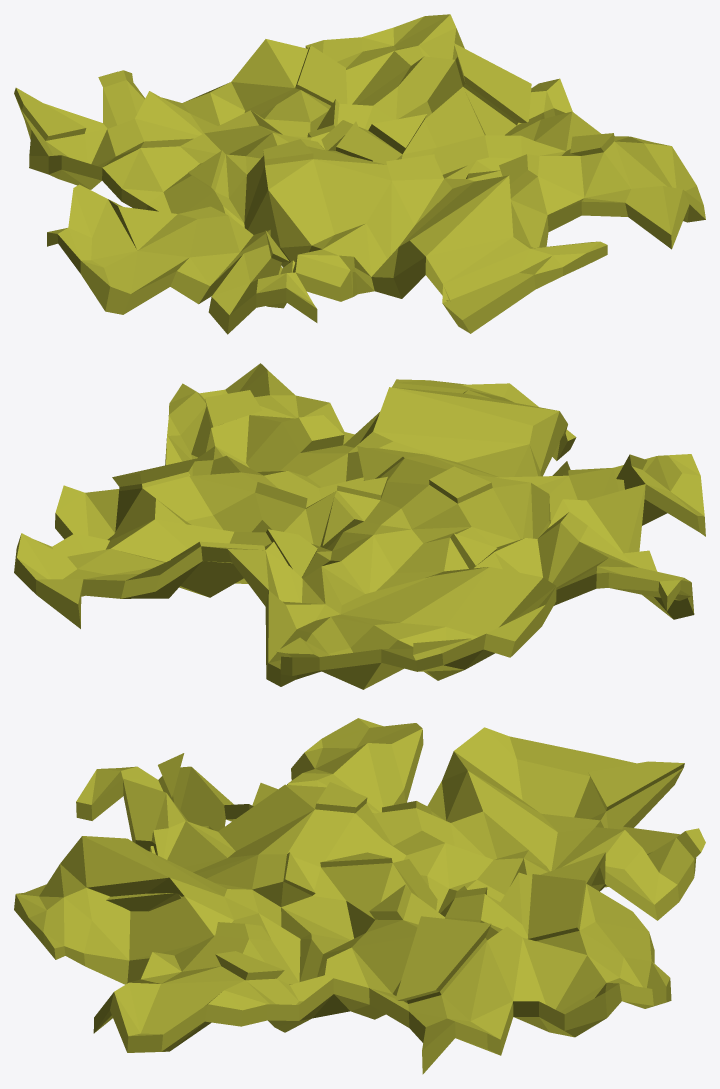
The model's file is GreenMoss_02.fbx.
3 views of the same model, one above another, from view 1: azimuth 30°, elevation 25°; view 2: azimuth 150°, elevation 25°; view 3: azimuth 270°, elevation 25° (orthographic). The views are drawn at different scales.
Visible parts, largest first — view 1: moss_02; view 2: moss_02; view 3: moss_02.
Part boxes in pixels (x1=…): moss_02: x1=14, y1=14, x2=705, y2=334; moss_02: x1=14, y1=363, x2=705, y2=689; moss_02: x1=14, y1=718, x2=705, y2=1074.
Bounding box in the file's own units: 260 × 47.57 × 258.
